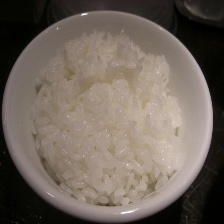rice: (16, 24, 204, 217)
